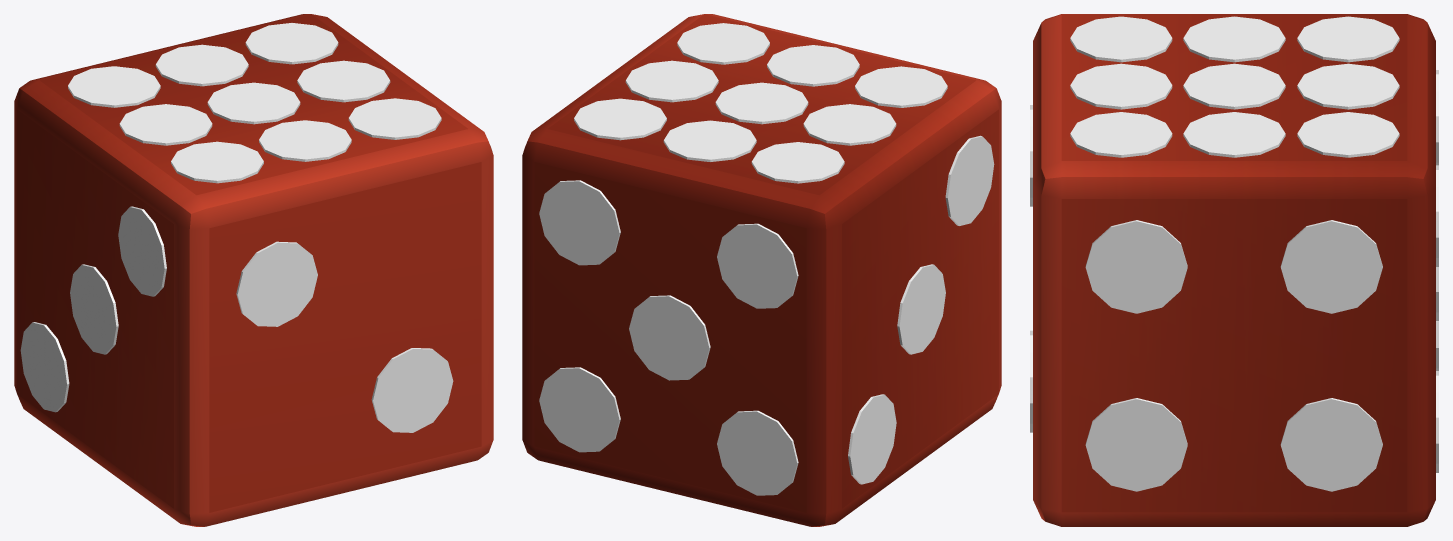
The model's file is Dice_09.fbx.
3 renders of one model, left to right at view 1: azimuth 30°, elevation 25°; view 2: azimuth 150°, elevation 25°; view 3: azimuth 270°, elevation 25°, orthographic. The views are drawn at different scales.
Visible parts, largest first — view 1: pCube10; view 2: pCube10; view 3: pCube10.
Boxes of the visible parts, x1,y1,x2,y2 form: pCube10: [14, 14, 493, 526]; pCube10: [522, 14, 1001, 526]; pCube10: [1030, 14, 1438, 526].
Size of the model in its own units: 2.03 by 2.03 by 2.03.
